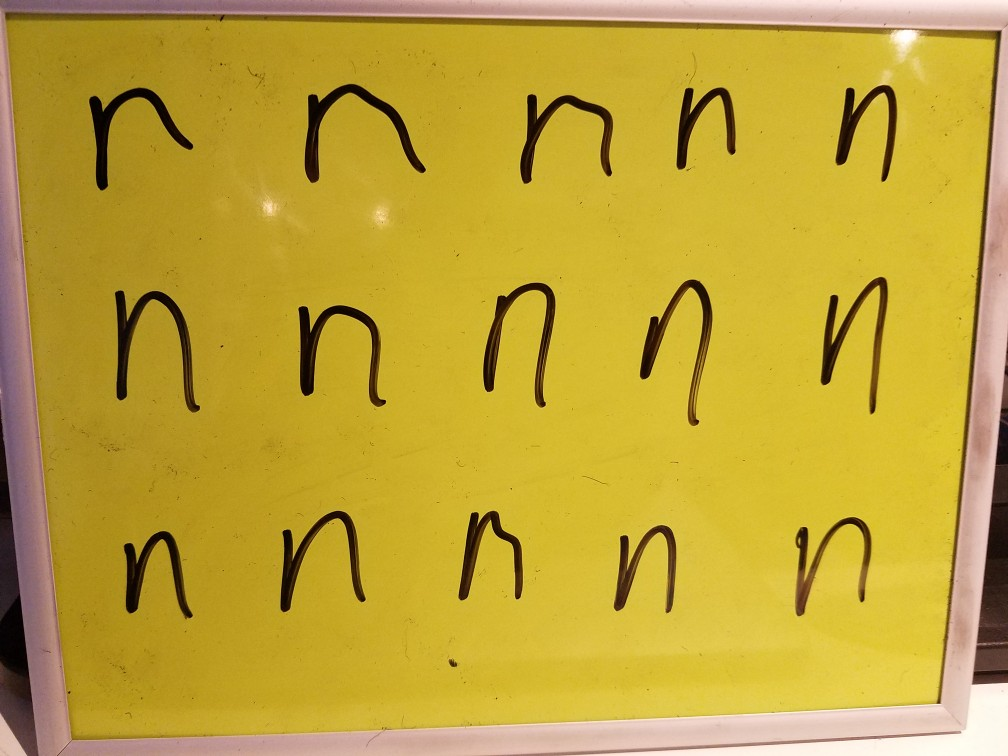n: (57, 45, 212, 199), (282, 52, 430, 199), (804, 260, 916, 454), (446, 262, 575, 411), (98, 266, 221, 422), (274, 277, 401, 427), (629, 256, 738, 429), (252, 482, 382, 623), (779, 488, 894, 638), (586, 488, 695, 645), (92, 488, 204, 636), (498, 70, 627, 189), (441, 494, 551, 626), (818, 63, 910, 189), (669, 70, 747, 170)
